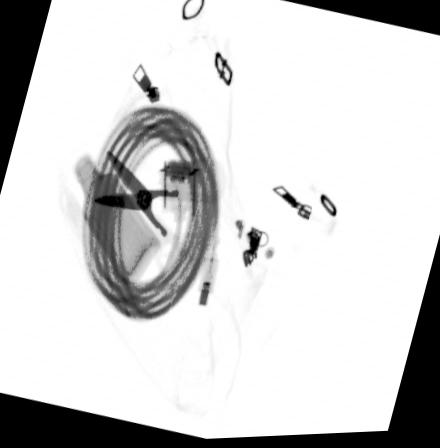Scissors: (90, 150, 224, 284)
